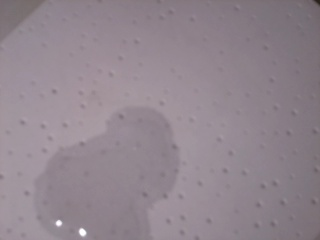Water_detected: (68, 117, 161, 228)
